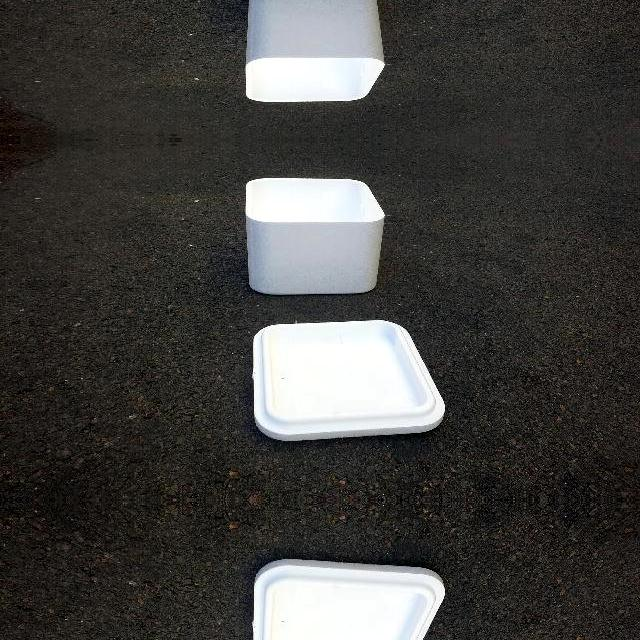Styrofoam: (253, 320, 445, 441), (252, 320, 442, 440), (244, 177, 384, 296), (245, 177, 385, 294), (253, 559, 445, 640), (251, 559, 442, 640), (245, 0, 385, 103), (244, 0, 384, 103)
